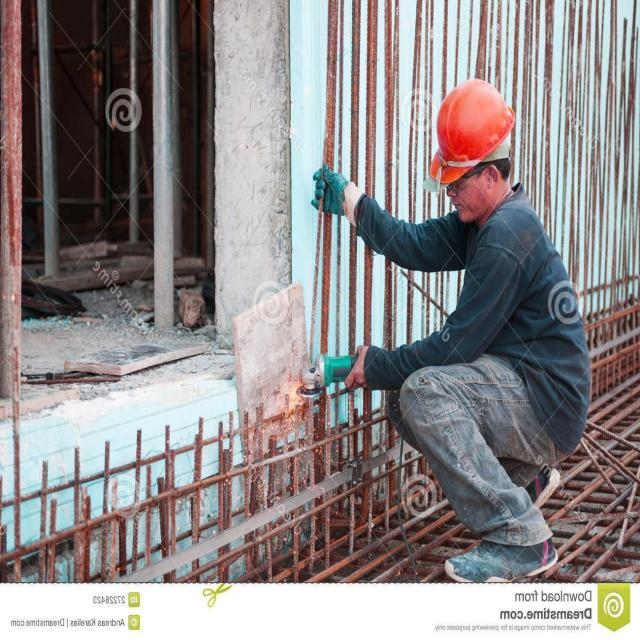face_nomask: (442, 159, 498, 226)
hand_glove: (308, 157, 355, 221)
hand_noglove: (346, 334, 375, 396)
head_helmet: (429, 78, 516, 186)
person: (370, 60, 588, 566)
shoes: (436, 513, 566, 589)
